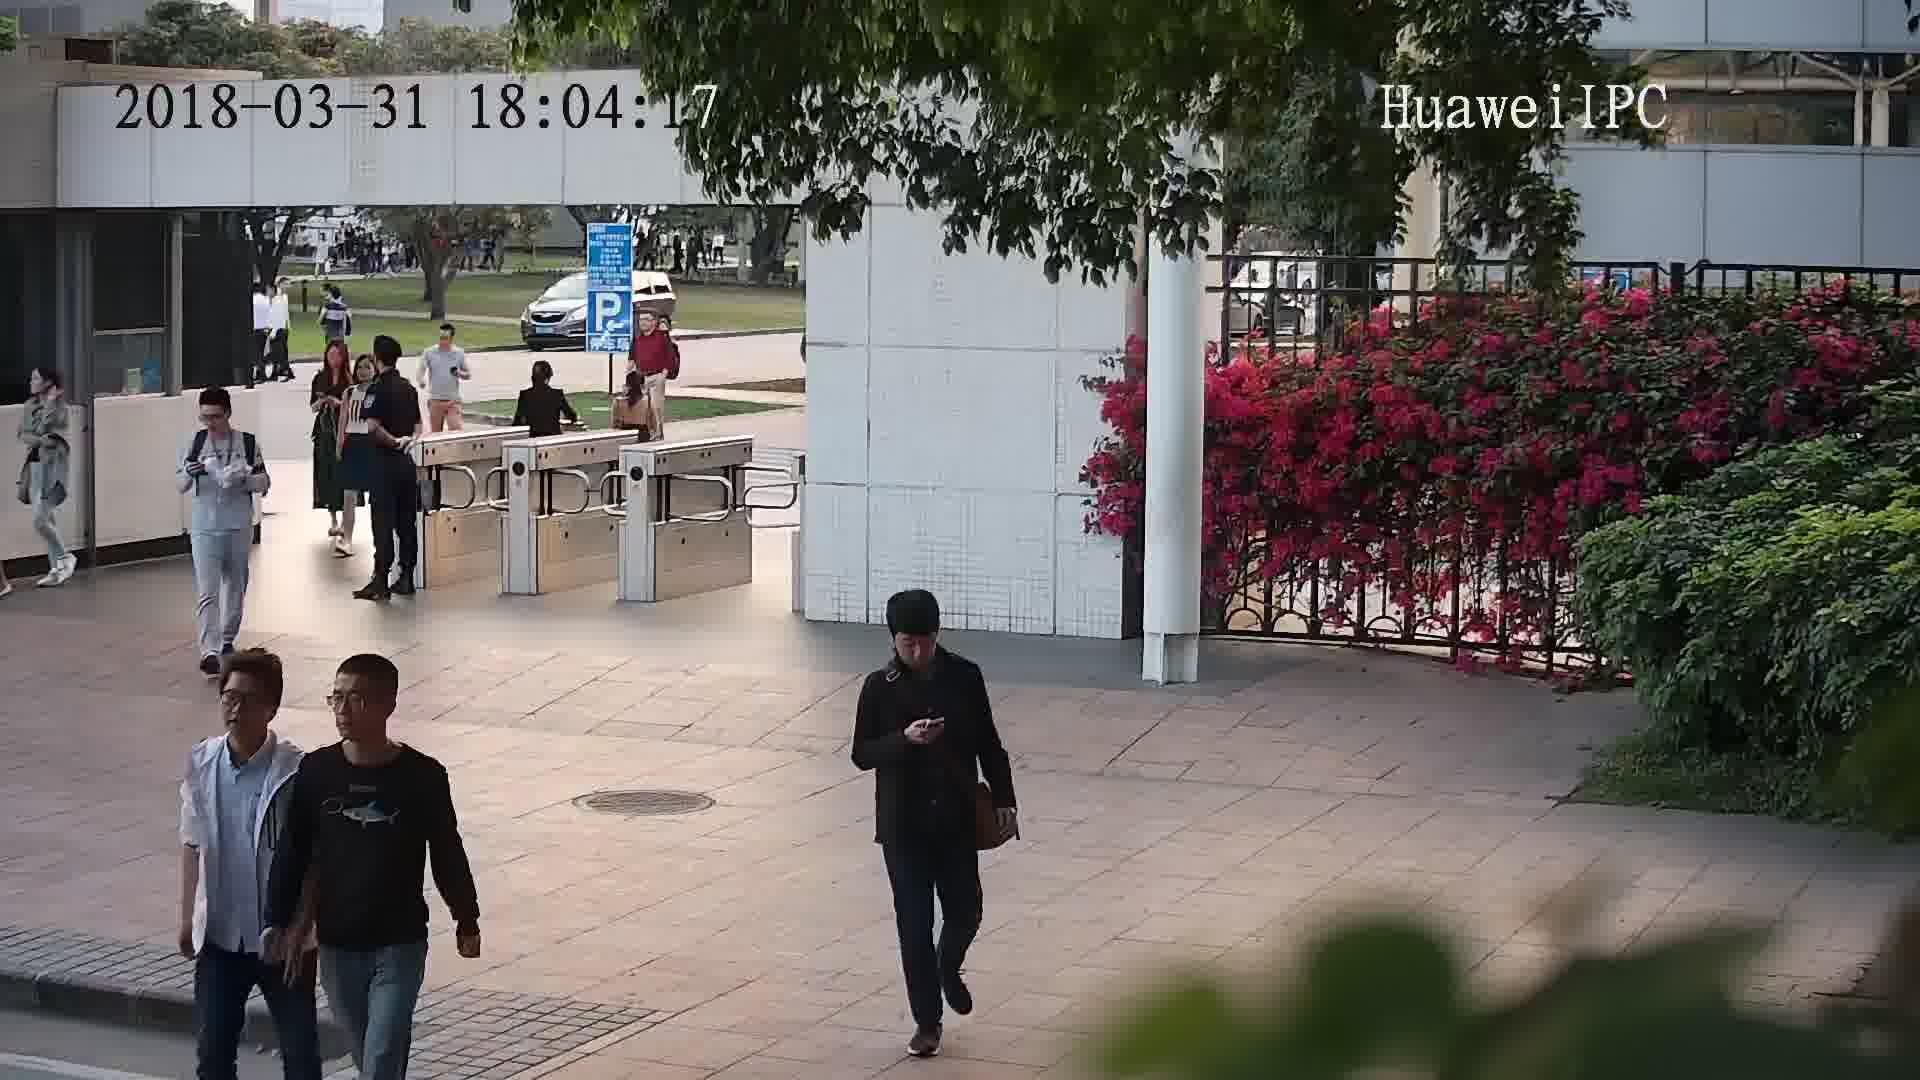face: (322, 667, 390, 735), (211, 672, 276, 737), (898, 630, 937, 668)
person: (296, 652, 442, 796), (185, 653, 305, 788), (860, 585, 987, 706), (185, 384, 260, 459), (21, 359, 71, 420), (367, 333, 414, 395), (340, 349, 383, 409), (516, 357, 565, 406), (419, 321, 468, 366), (311, 337, 352, 391), (610, 369, 658, 413), (629, 306, 675, 347), (321, 280, 352, 313), (263, 280, 290, 309)
